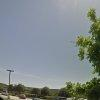Tree: (65, 2, 100, 70)
